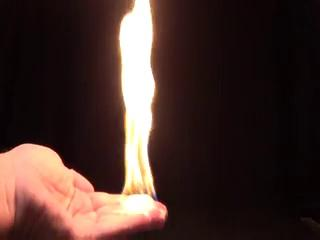Fire: (109, 1, 167, 218)
